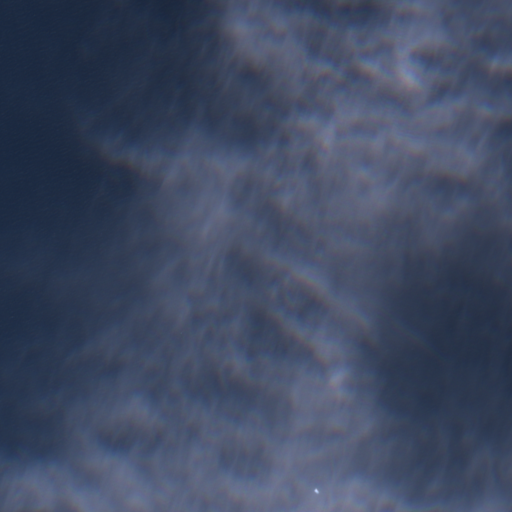Iceberg: (315, 489, 318, 493)
